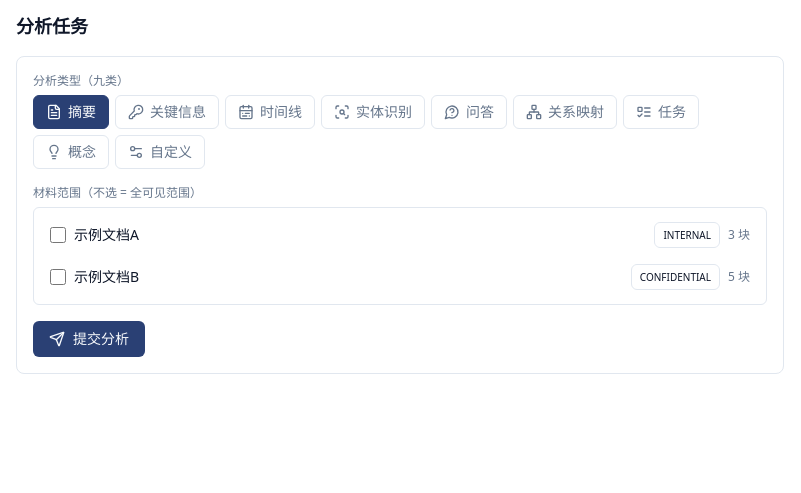
Scenario: 进度轮询与终态 › job failed -> destructive 错误盒 + 重试面板
The width and height of the screenshot is (801, 493).
Expected: the checkbox labelled "示例文档A INTERNAL 3 块" is shown, [50,227,66,243]
Click the button "提交分析" at coordinates (89, 339), box [33,321,145,357]
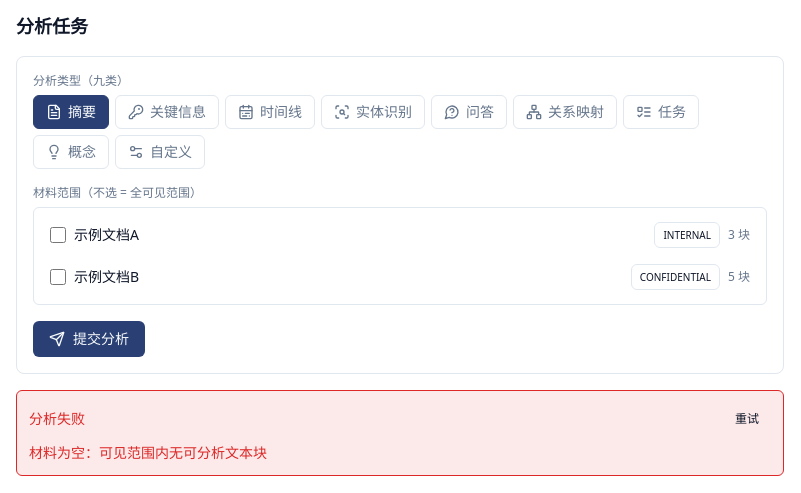
Now the text "分析失败" is shown, box [29,409,85,429]
Now the text "材料为空：可见范围内无可分析文本块" is shown, box [29,443,267,462]
Note: 重试：清状态回到可再提交（进度 / 错误盒消失）
Click the button "重试" at coordinates (747, 419), box [723,403,771,435]
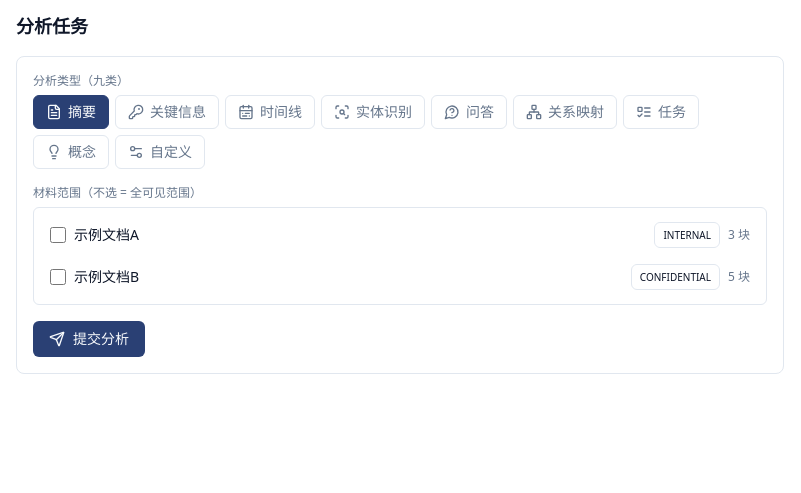
Now the text "分析失败" is gone
